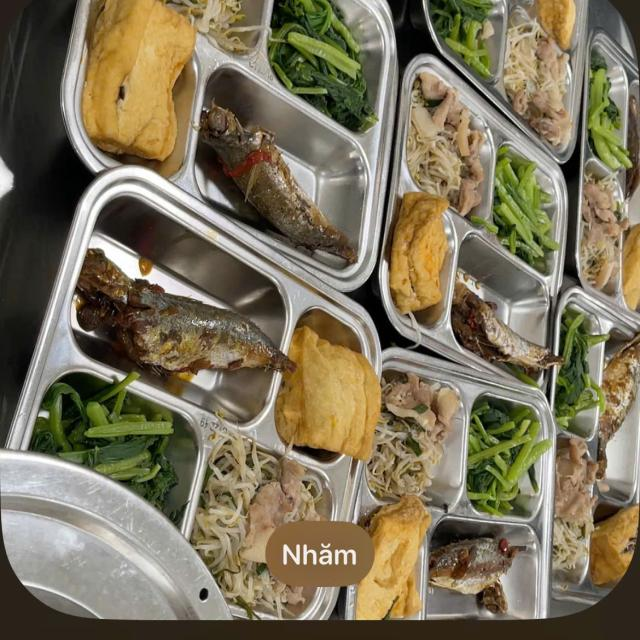ca_kho: (77, 235, 285, 384), (210, 83, 356, 266), (459, 275, 559, 385), (438, 531, 536, 614), (612, 336, 640, 450)
dau_hu_sot_ca: (84, 0, 194, 157), (294, 314, 390, 458), (366, 509, 432, 625), (399, 190, 452, 320), (595, 501, 640, 594), (534, 0, 575, 45), (629, 203, 640, 315)
rau_muong_xao: (56, 370, 188, 506), (272, 0, 386, 115), (469, 398, 544, 516), (502, 147, 560, 265), (564, 301, 607, 434), (591, 40, 633, 172), (426, 0, 514, 63)
